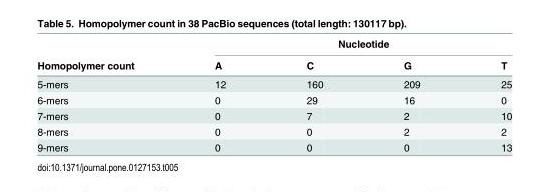table: (36, 37, 511, 152)
table column: (36, 37, 173, 152), (265, 37, 362, 152), (362, 37, 459, 152), (173, 37, 265, 152), (459, 37, 511, 152)
table column header: (36, 37, 511, 74)
table row: (36, 53, 511, 74), (36, 74, 511, 91), (36, 37, 511, 53), (36, 91, 511, 107), (36, 107, 511, 123), (36, 123, 511, 139), (36, 139, 511, 152)
table spanning cell: (173, 37, 511, 53), (36, 37, 173, 74)
